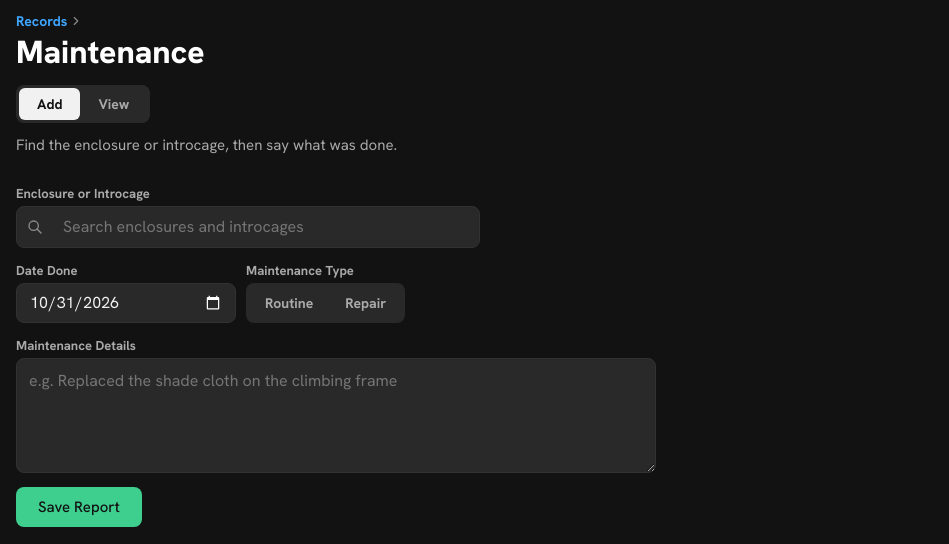
Test: View › every report, newest first: the date, type, place (a link) and details
This screenshot has width=949, height=544.
What coordinates should you click on to do the following:
click the tab "View"
I would click on:
 (114, 104)
Its box is [80,88,147,120].
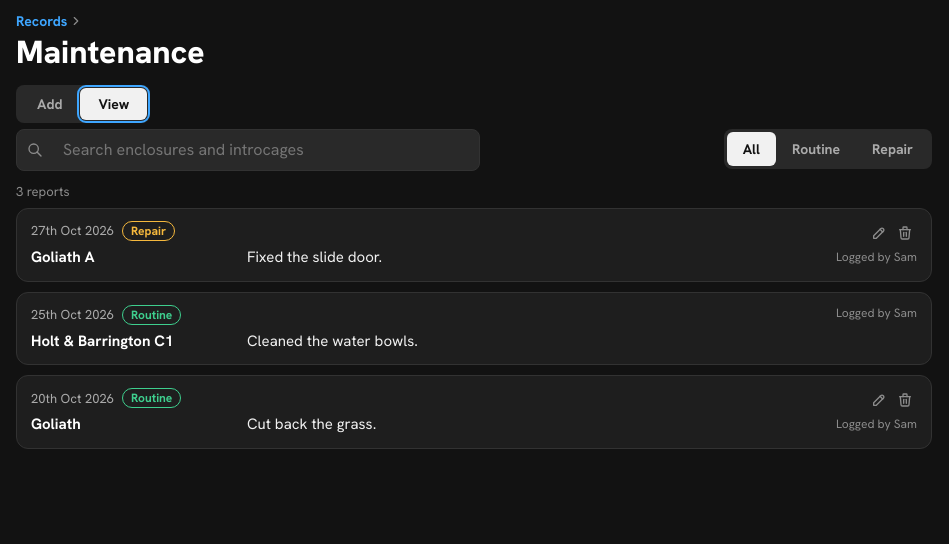
Result: the number of list items is 3 at [16,208,932,282]; [16,292,932,365]; [16,375,932,449]
Result: the list item that starts with "27th Oct 2026" is shown at [31,222,114,239]
Result: the list item that starts with "27th Oct 2026" shows "Repair" at [131,223,166,239]
